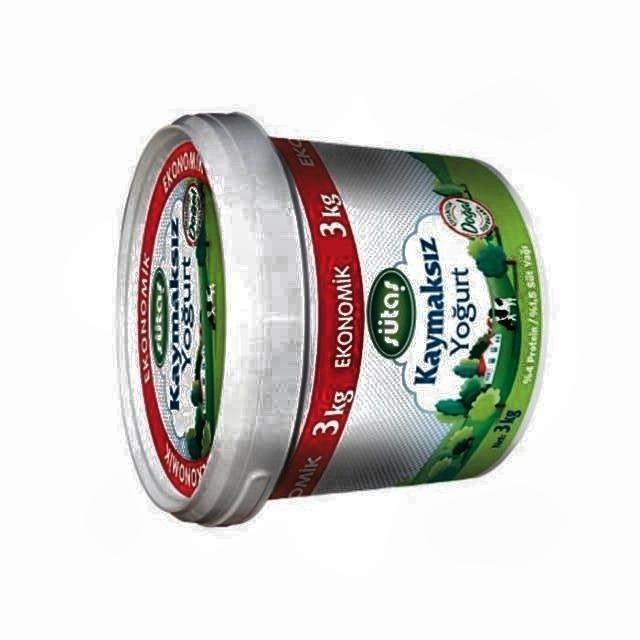plastic: (120, 114, 542, 526)
